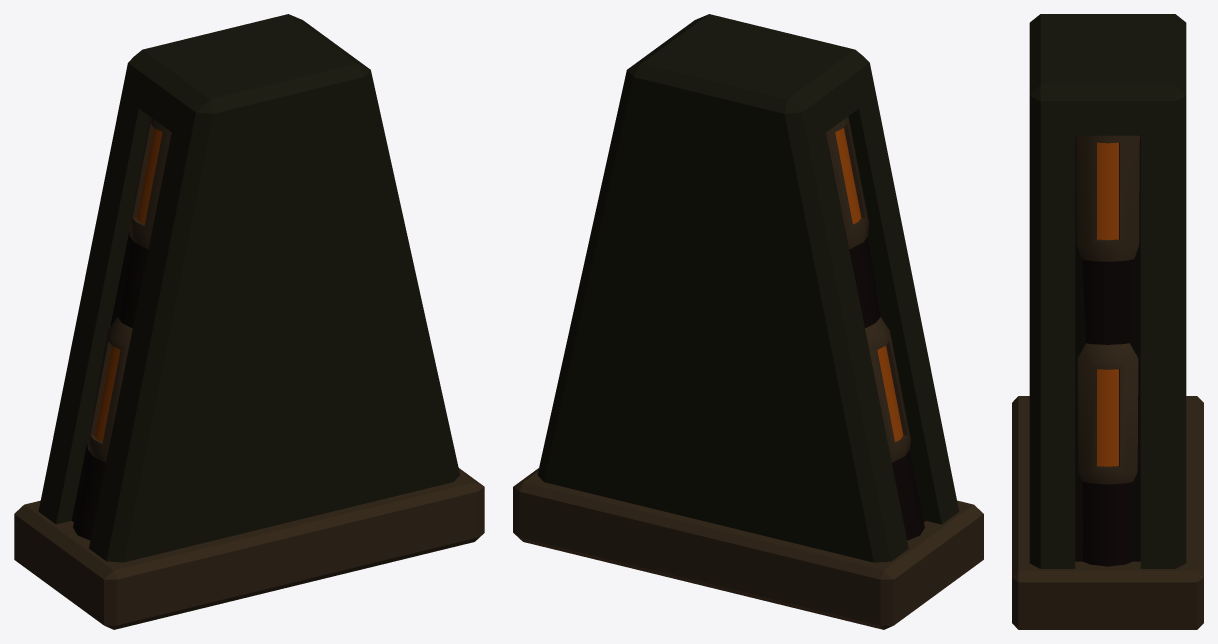
Rendered from OBJ_Pilone_cone.fbx.
3 renders of one model, left to right at view 1: azimuth 30°, elevation 25°; view 2: azimuth 150°, elevation 25°; view 3: azimuth 270°, elevation 25°, orthographic.
Parts seen in each view (by area): view 1: Pilone_cone; view 2: Pilone_cone; view 3: Pilone_cone.
Boxes of the visible parts, bbox=[...] form: Pilone_cone: bbox=[14, 14, 484, 629]; Pilone_cone: bbox=[513, 14, 983, 629]; Pilone_cone: bbox=[1012, 14, 1203, 629].
Size of the model in its own units: 1995 by 2485 by 876.
